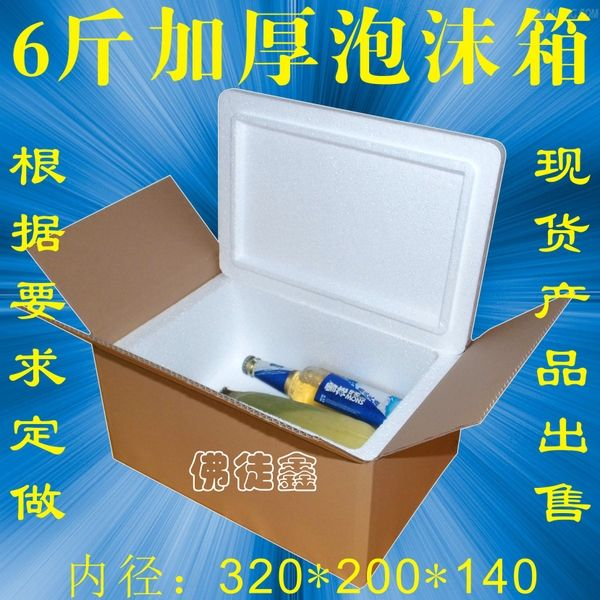Boxes: (118, 95, 502, 460)
